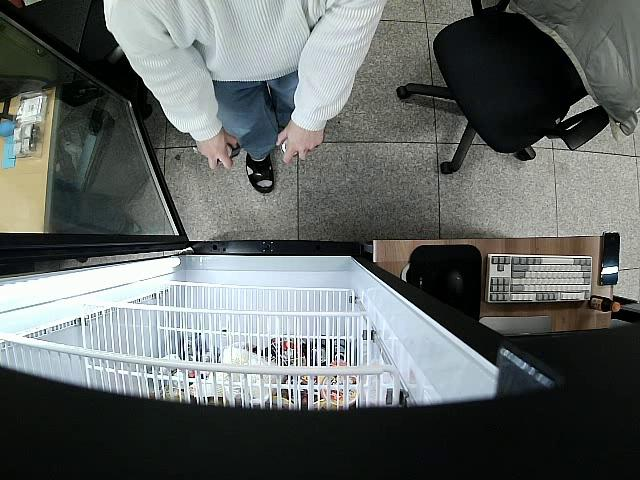00_hand: (277, 121, 324, 163), (196, 128, 238, 171)
16_hot6: (215, 142, 243, 162)
